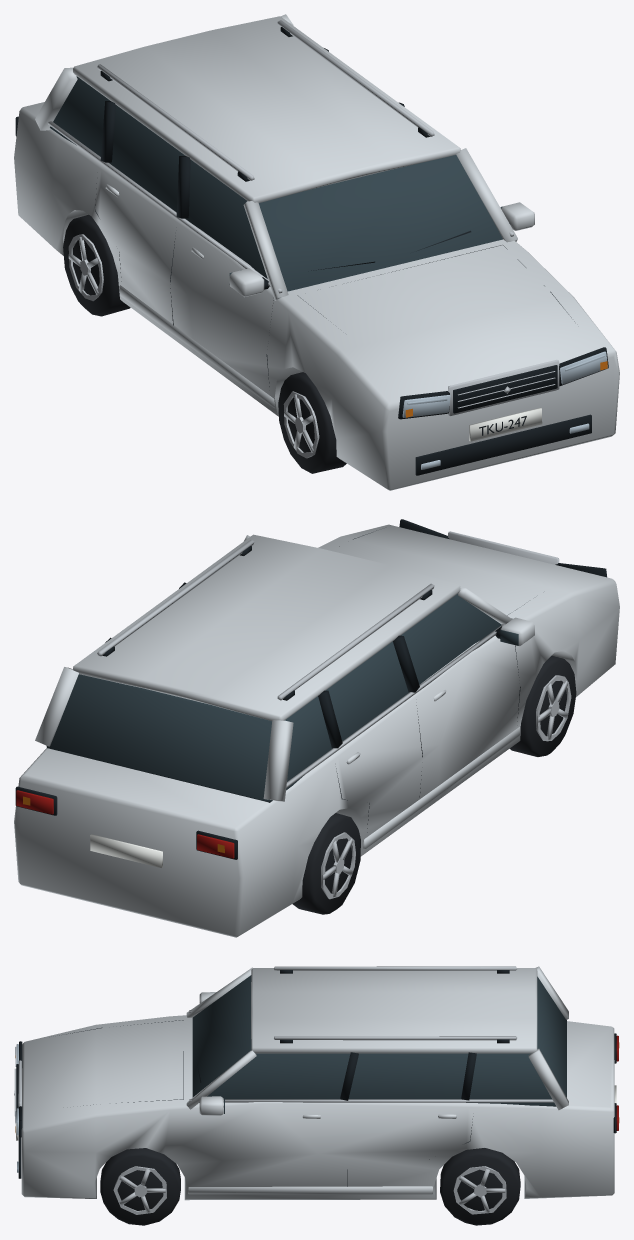
File: estate_lod2.glb
3 renders of one model, top to bottom at view 1: azimuth 30°, elevation 25°; view 2: azimuth 150°, elevation 25°; view 3: azimuth 270°, elevation 25°, orthographic. The views are drawn at different scales.
Visible parts, largest first — view 1: aava_estate_lod2; view 2: aava_estate_lod2; view 3: aava_estate_lod2.
Part boxes in pixels (x1,y1,x2,y2): aava_estate_lod2: (14, 14, 619, 490); aava_estate_lod2: (14, 519, 619, 937); aava_estate_lod2: (14, 966, 619, 1225).
Size of the model in its own units: 2.11 by 1.54 by 4.78.
